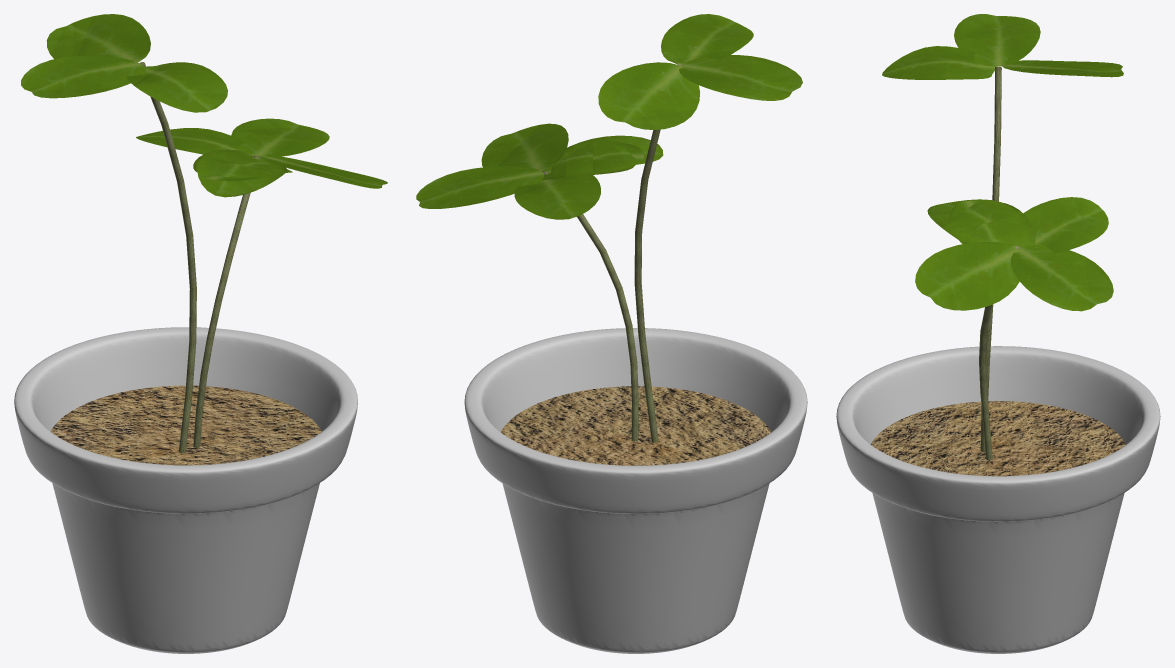
The model's file is pot.obj.
3 views of the same model, side by side, from view 1: azimuth 30°, elevation 25°; view 2: azimuth 150°, elevation 25°; view 3: azimuth 270°, elevation 25° (orthographic). The views are drawn at different scales.
Visible parts, largest first — view 1: Flower_pot; view 2: Flower_pot; view 3: Flower_pot.
Boxes of the visible parts, <box> form: Flower_pot: <box>14,14,387,653</box>; Flower_pot: <box>416,14,807,653</box>; Flower_pot: <box>836,14,1160,653</box>.
Bounding box in the file's own units: 1.66 × 2.71 × 1.48.
Materials: 4 (3 with a texture image).
